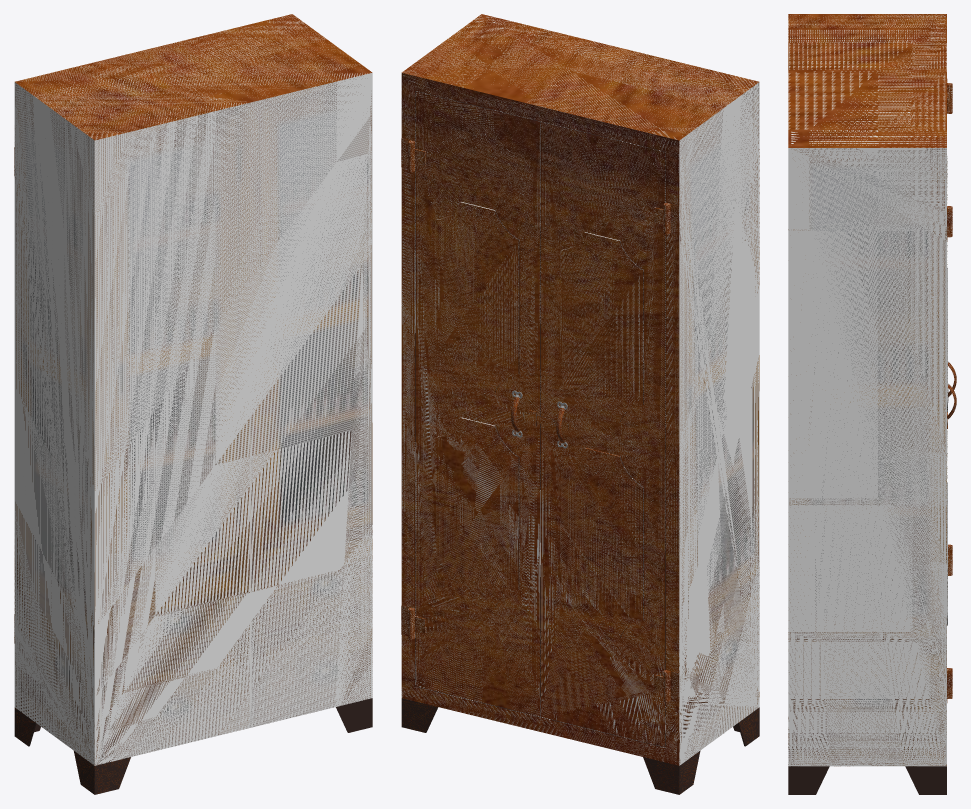
The picture shows the model from 3 angles, left to right: view 1: azimuth 30°, elevation 25°; view 2: azimuth 150°, elevation 25°; view 3: azimuth 270°, elevation 25°; orthographic projection.
Visible parts, largest first — view 1: mesh32_mesh32-geometry, mesh5_mesh5-geometry, mesh1_mesh1-geometry; view 2: mesh32_mesh32-geometry, mesh6_mesh6-geometry, mesh2_mesh2-geometry, mesh14_mesh14-geometry, mesh12_mesh12-geometry; view 3: mesh32_mesh32-geometry, mesh1_mesh1-geometry, mesh2_mesh2-geometry.
Boxes of the visible parts, <box> form: mesh32_mesh32-geometry: <box>14,14,372,765</box>; mesh5_mesh5-geometry: <box>74,751,130,794</box>; mesh1_mesh1-geometry: <box>336,698,372,732</box>; mesh32_mesh32-geometry: <box>401,14,759,765</box>; mesh6_mesh6-geometry: <box>643,751,700,794</box>; mesh2_mesh2-geometry: <box>401,698,438,732</box>; mesh14_mesh14-geometry: <box>654,202,679,234</box>; mesh12_mesh12-geometry: <box>654,670,679,702</box>; mesh32_mesh32-geometry: <box>788,14,948,766</box>; mesh1_mesh1-geometry: <box>788,766,829,794</box>; mesh2_mesh2-geometry: <box>905,766,946,794</box>.
Bounding box in the file's own units: 0.397 × 0.8932 × 0.2109.
